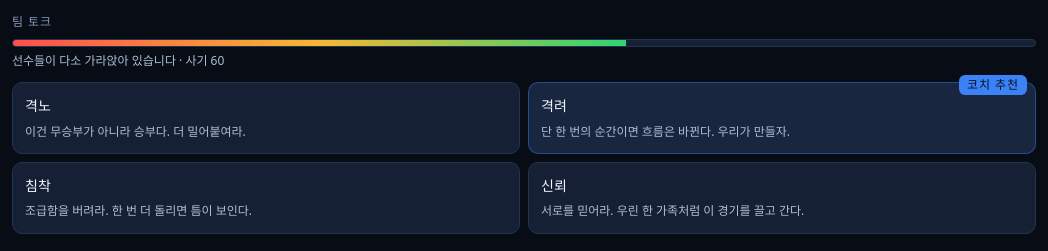
Scenario: TeamTalk 컴포넌트 › 선택 시 즉시 효과 배너(+/사기 상승)와 선수 반응을 표시
What coordinates should you click on to do the following:
click the button "침착 조급함을 버려라. 한 번 더 돌리면 틈이 보인다."
I would click on:
 (138, 211)
Its box is 12,162 -> 520,234.
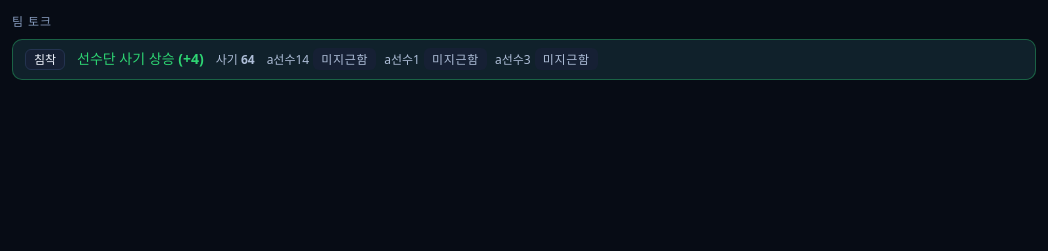
Now the message with class "tt-banner--up" is shown, box 12,39 -> 1036,80
Now the message with class "tt-banner--up" shows "선수단 사기 상승 (+4)", box 77,49 -> 204,68
